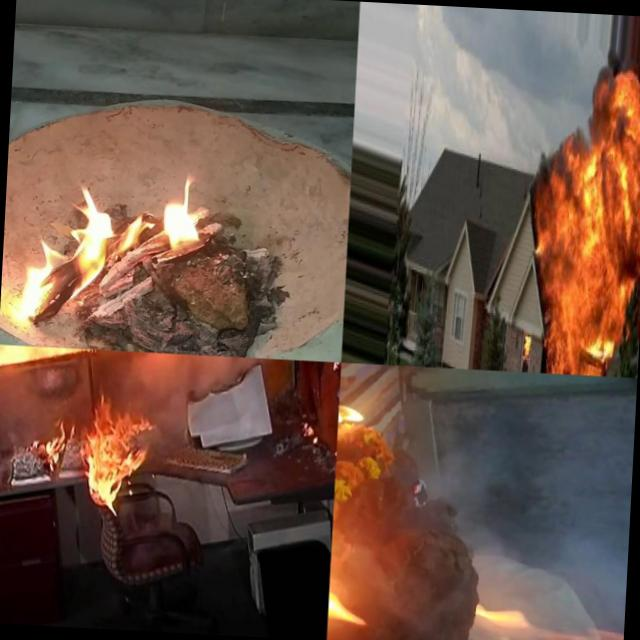fire: (26, 168, 212, 324), (548, 122, 640, 376), (73, 401, 142, 503), (590, 376, 638, 504), (531, 166, 559, 314), (0, 344, 104, 383), (589, 69, 640, 127), (551, 603, 625, 640), (388, 598, 416, 640)
smoke: (441, 368, 594, 522), (135, 352, 248, 451)
